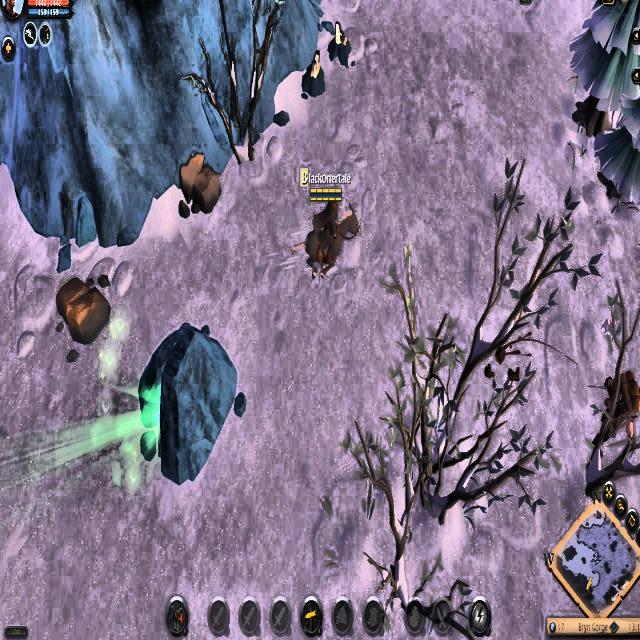copperore: (326, 16, 355, 68), (301, 48, 326, 98)
limestone: (53, 274, 112, 348), (178, 154, 222, 218)
